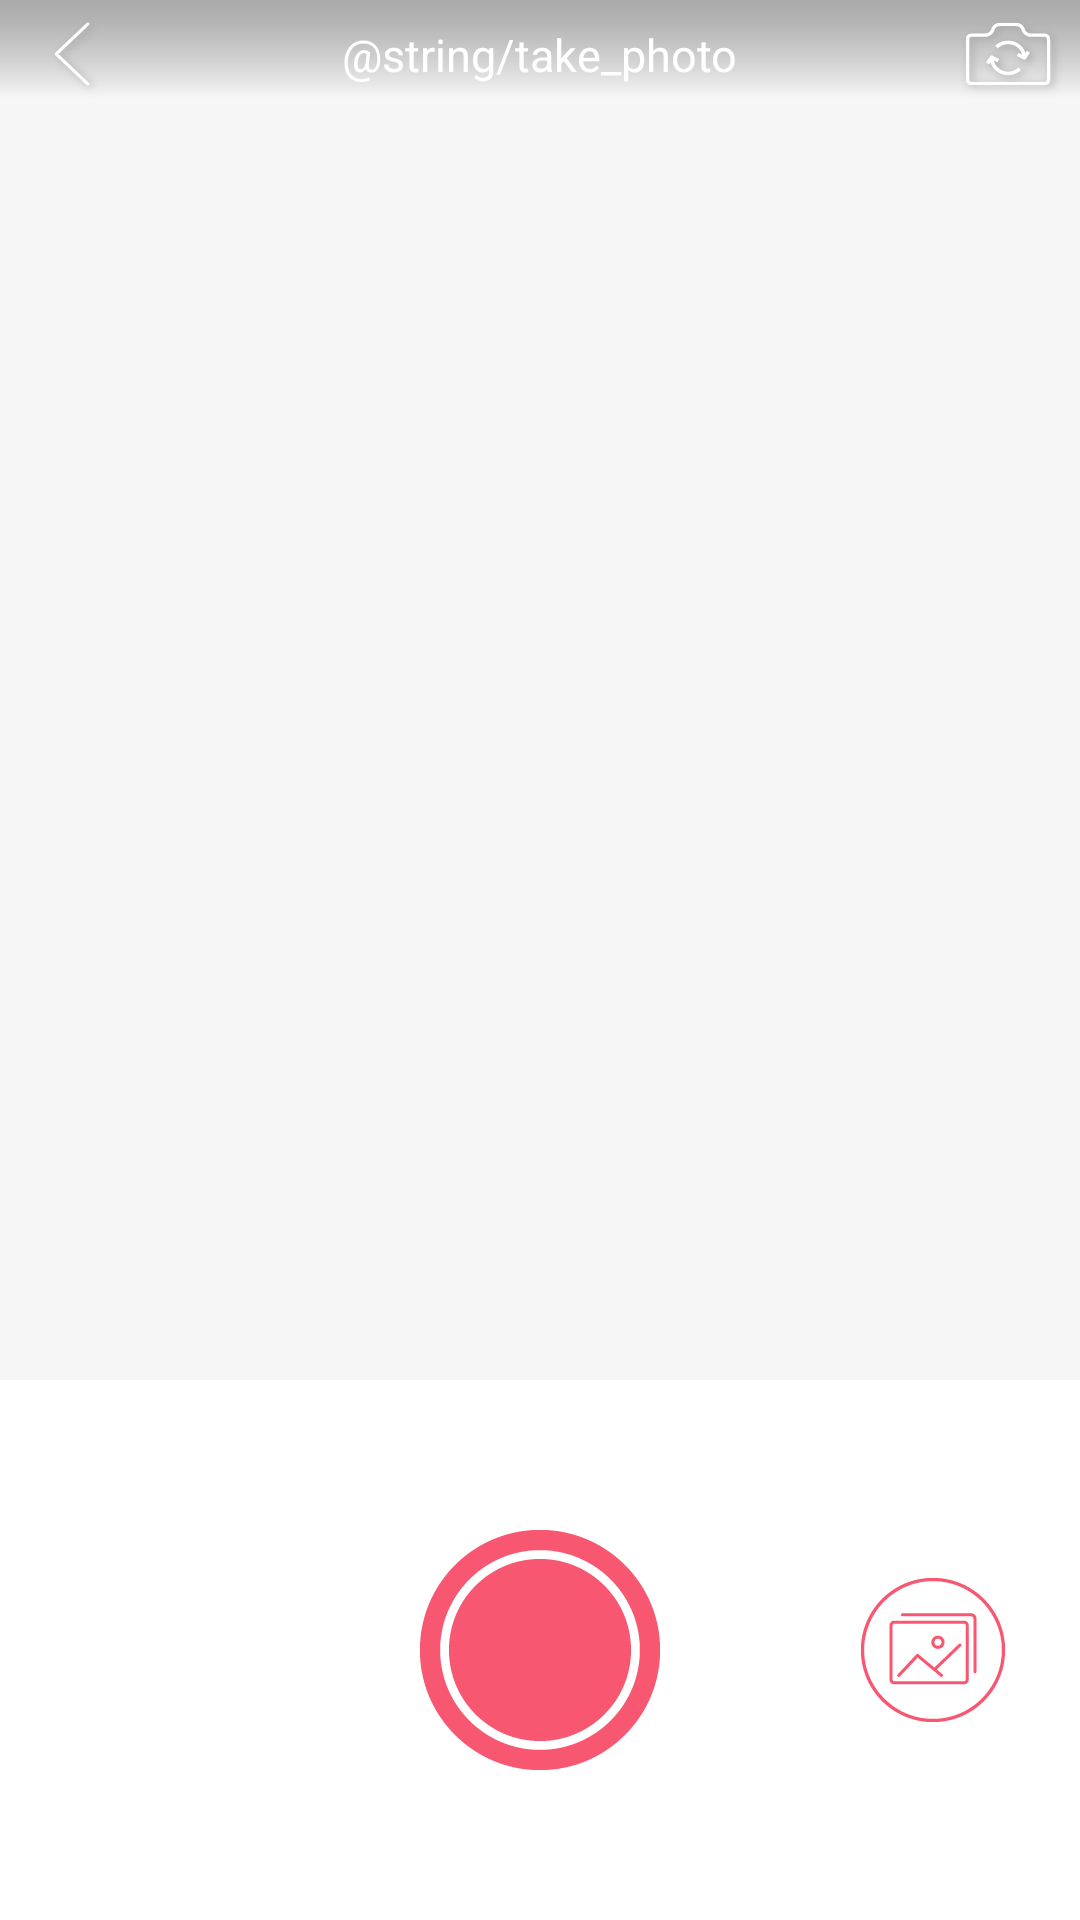

Where icons sit on this 1080 x 1920 app screen, as bbox=(x1, y1, x2, y2):
changecamera: bbox=(936, 0, 1080, 89)
changeface garlly: bbox=(861, 1578, 1005, 1722)
takephoto: bbox=(420, 1530, 660, 1770)
